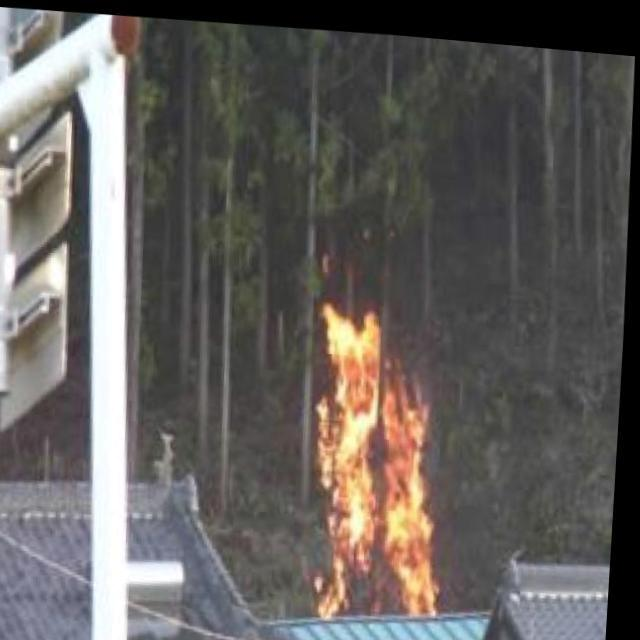fire: (290, 292, 458, 626)
